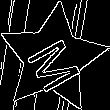M_NE: (20, 26, 86, 91)
